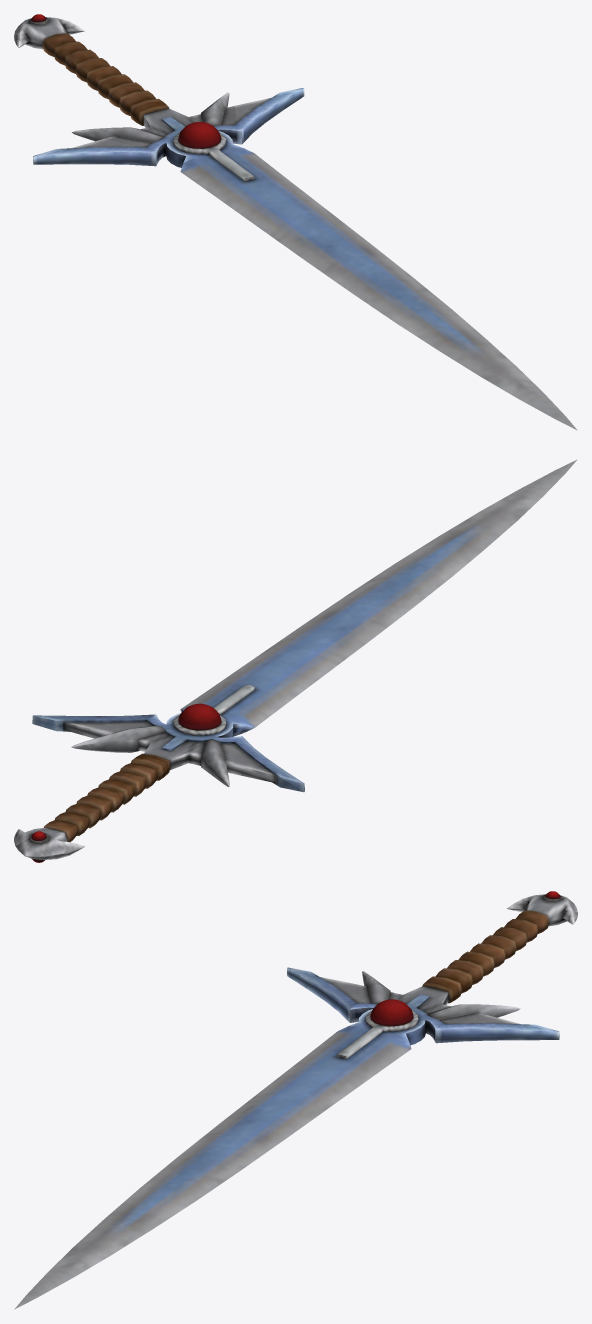
3 renders of one model, top to bottom at view 1: azimuth 30°, elevation 25°; view 2: azimuth 150°, elevation 25°; view 3: azimuth 330°, elevation 25°, orthographic.
Parts seen in each view (by area): view 1: Dai handheld sword — standalone prop; view 2: Dai handheld sword — standalone prop; view 3: Dai handheld sword — standalone prop.
Part boxes in pixels (x1,y1,x2,y2): Dai handheld sword — standalone prop: (14, 14, 577, 430); Dai handheld sword — standalone prop: (14, 459, 577, 862); Dai handheld sword — standalone prop: (14, 891, 577, 1309).
Size of the model in its own units: 0.4251 by 0.0754 by 1.5.
2 materials, 2 textured.
